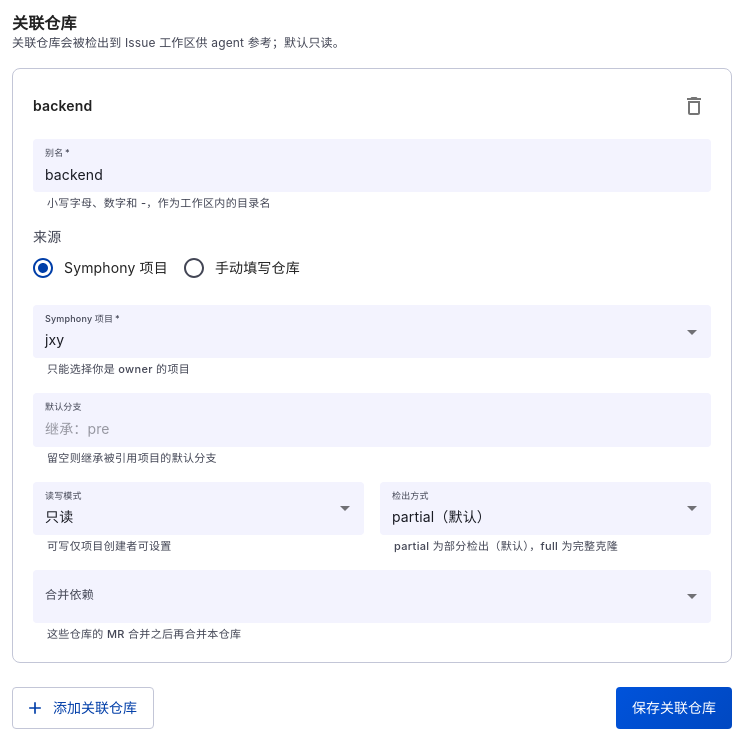
Test: ProjectReposEditor › shows backend retMsg on save error
Click the button "保存关联仓库".
click(674, 708)  # box [616, 687, 732, 729]
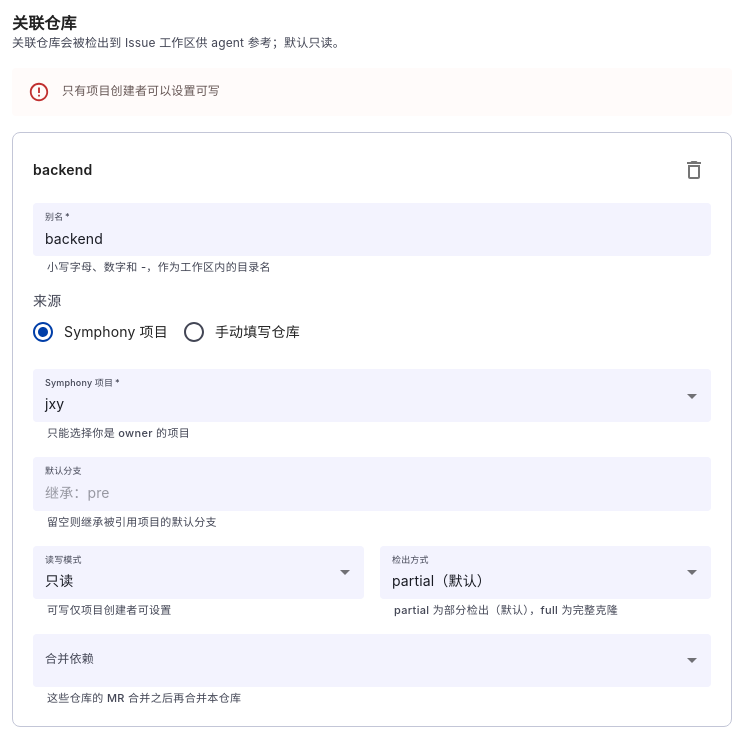
Check: the text "只有项目创建者可以设置可写" is shown, box [62, 83, 220, 98]
